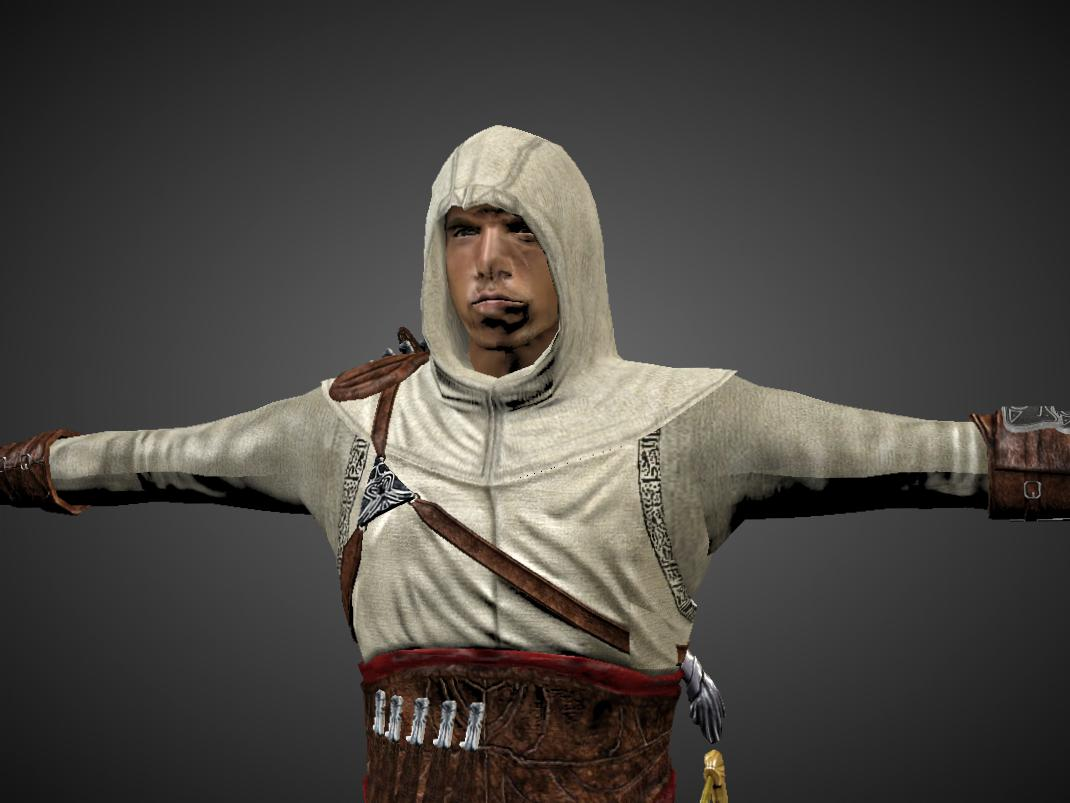clip: (622, 615, 687, 669)
